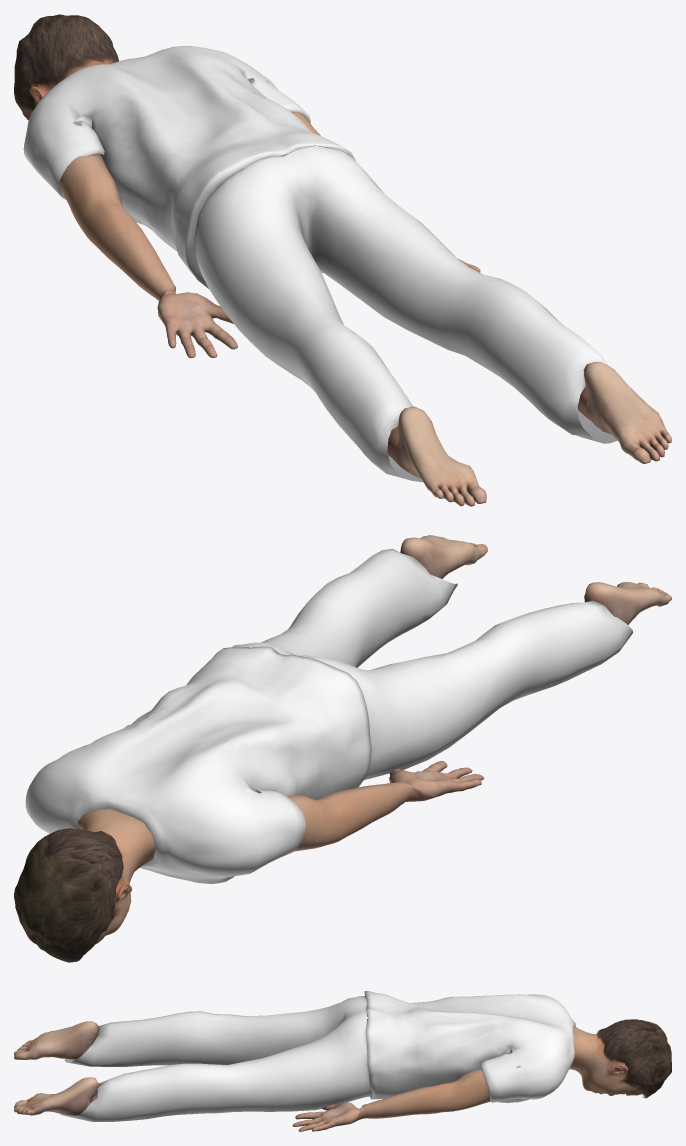
Rendered from patient.glb.
The picture shows the model from 3 angles, top to bottom: view 1: azimuth 30°, elevation 25°; view 2: azimuth 150°, elevation 25°; view 3: azimuth 270°, elevation 25°; orthographic projection. The views are drawn at different scales.
Visible parts, largest first — view 1: back_patient_pants, back_patient_shirt, back_patient_skin, back_patient_hair; view 2: back_patient_shirt, back_patient_pants, back_patient_skin, back_patient_hair; view 3: back_patient_pants, back_patient_shirt, back_patient_skin, back_patient_hair.
Boxes of the visible parts, left/top/right/bottom form: back_patient_pants: left=194, top=145, right=616, bottom=482; back_patient_shirt: left=23, top=46, right=356, bottom=288; back_patient_skin: left=29, top=58, right=671, bottom=506; back_patient_hair: left=14, top=14, right=118, bottom=120; back_patient_shirt: left=25, top=646, right=371, bottom=883; back_patient_pants: left=232, top=549, right=633, bottom=779; back_patient_skin: left=77, top=535, right=671, bottom=944; back_patient_hair: left=14, top=828, right=123, bottom=962; back_patient_pants: left=59, top=996, right=371, bottom=1121; back_patient_shirt: left=364, top=991, right=575, bottom=1102; back_patient_skin: left=14, top=1021, right=642, bottom=1131; back_patient_hair: left=596, top=1019, right=671, bottom=1098.
Size of the model in its own units: 0.5937 by 0.2701 by 1.75.
4 materials, 4 textured.
